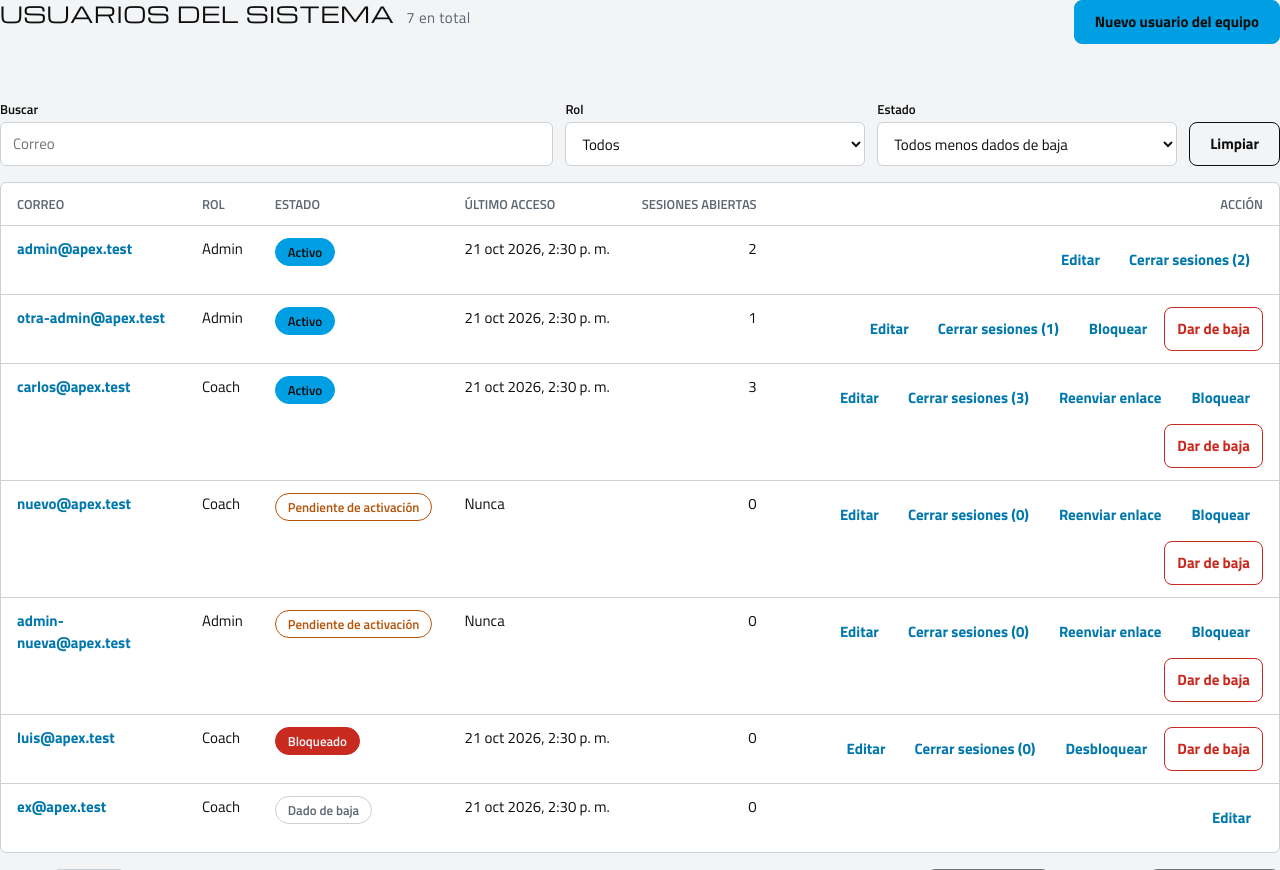
Scenario: UsersPage · cerrar sesiones (US-051) › si falla sobre uno mismo la sesión sigue y el error se explica
Click the button "Cerrar sesiones (2)".
click(1190, 260)  # box [1116, 238, 1263, 282]
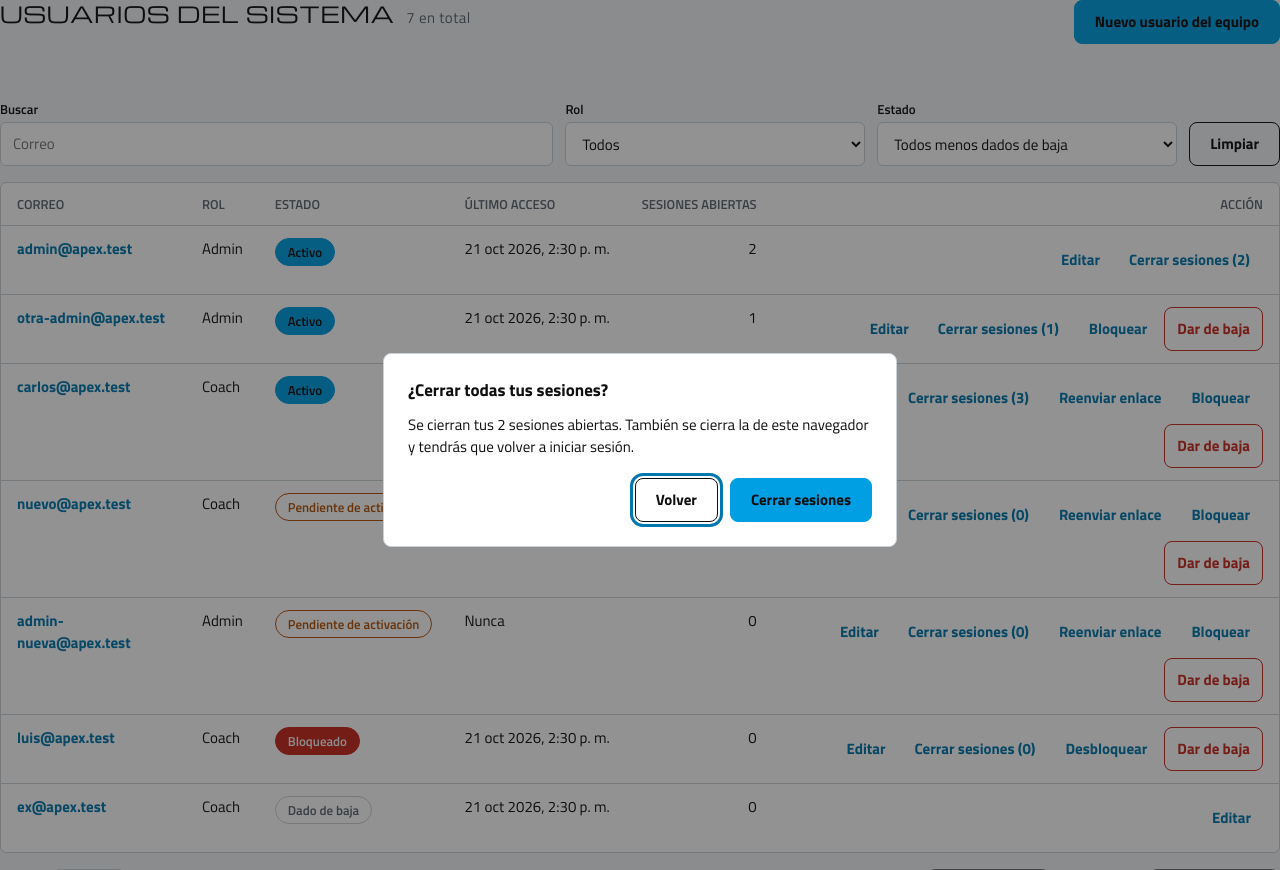
Click the button "Cerrar sesiones".
click(801, 500)  # box [730, 478, 872, 522]
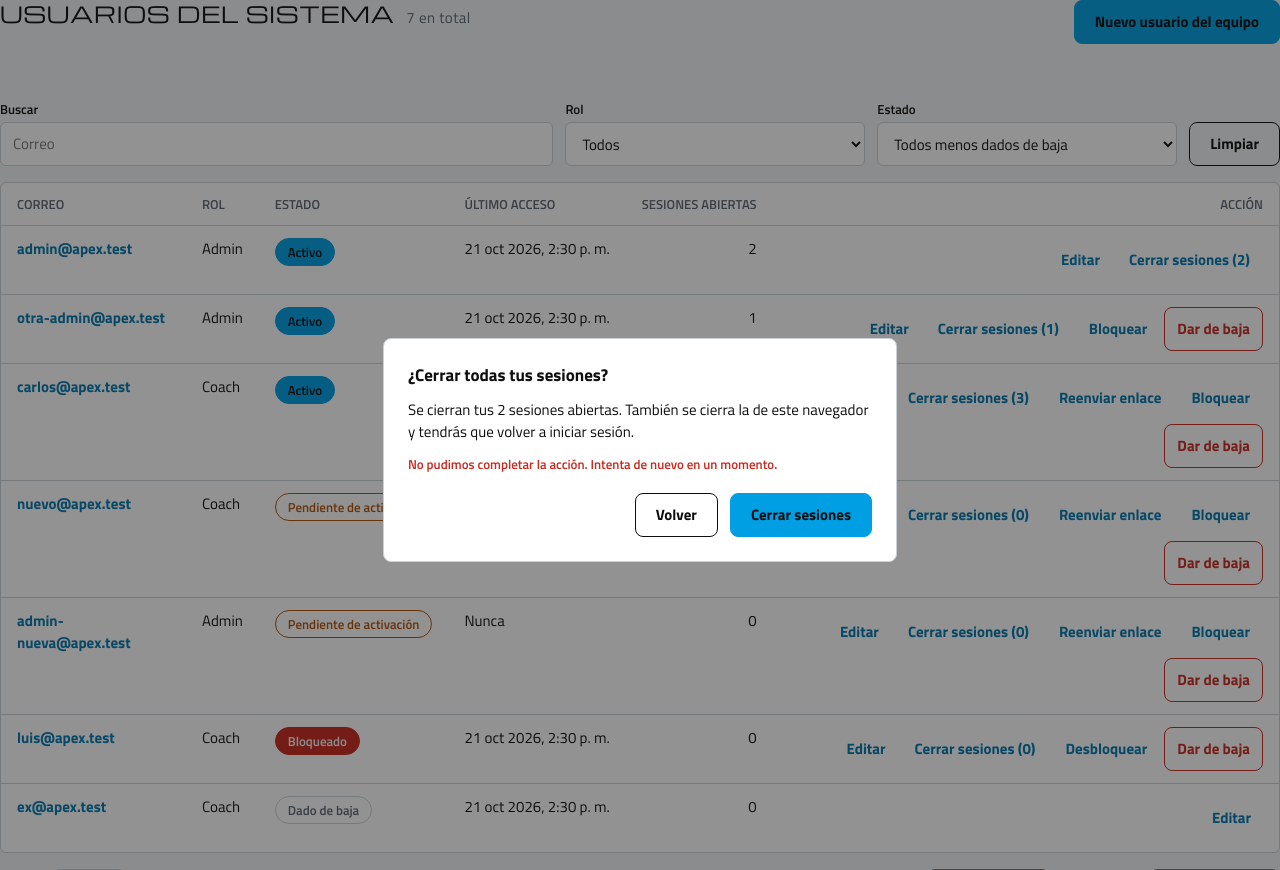
Result: the message reads "No pudimos completar la acción. Intenta de nuevo en un momento." at [408, 454, 777, 474]
